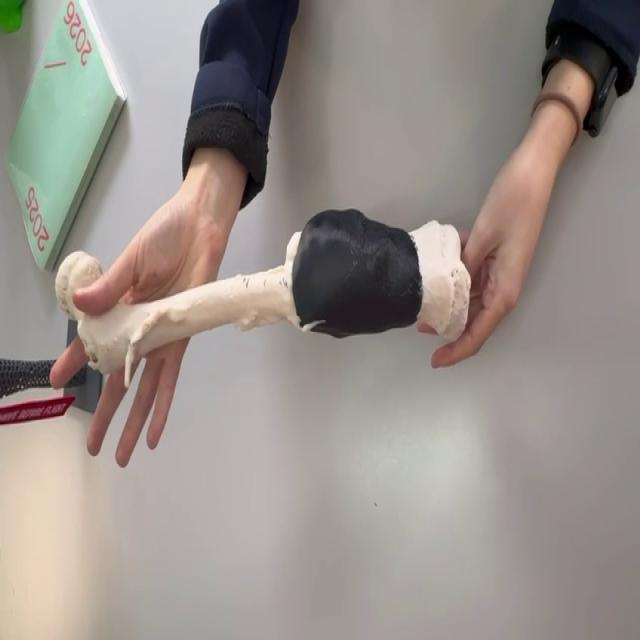bones: (56, 210, 470, 383)
